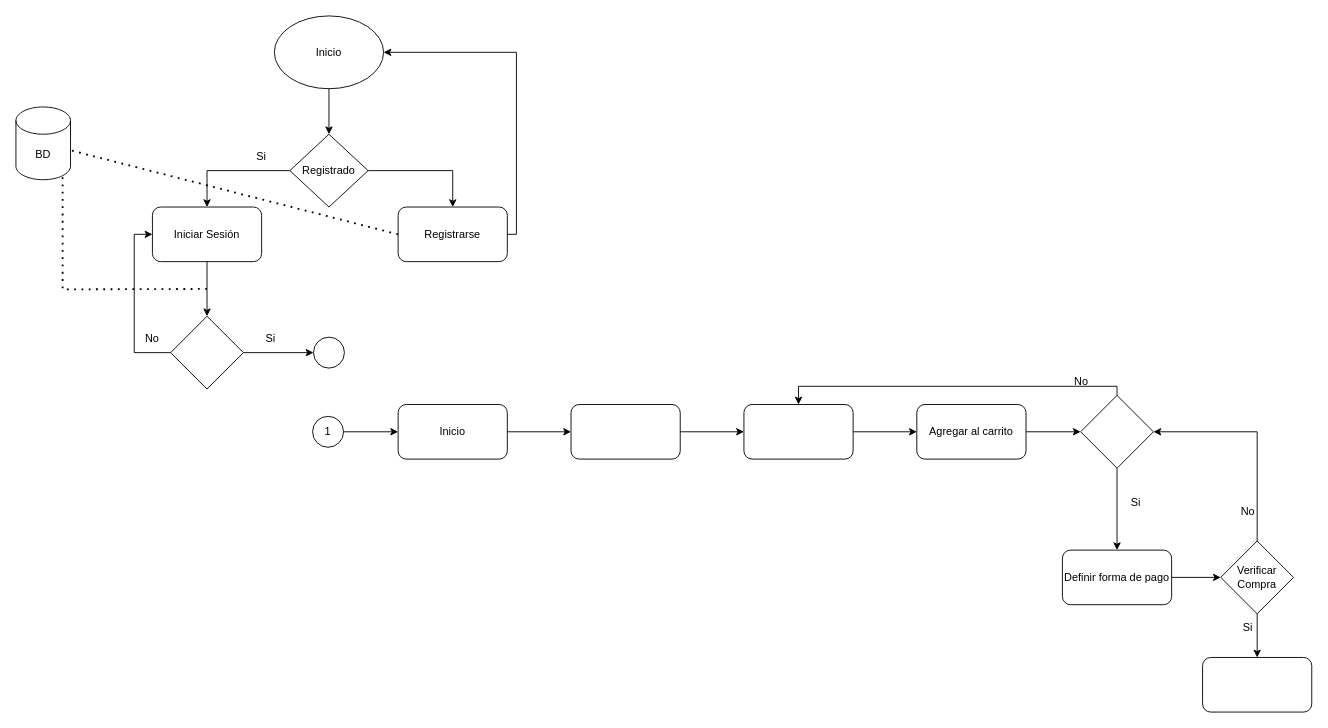
This 1328x728 diagram has some shape labels left out. The box of each missing label's shape, as (x1, y1, x2, y2) in pixels:
Datos Correctos: (170, 315, 243, 389)
Enviar Pedido: (1202, 657, 1312, 712)
Hacer Pedido: (1080, 394, 1153, 468)
Ver Producto: (743, 404, 853, 459)
Visualizar Productos: (570, 404, 680, 459)
